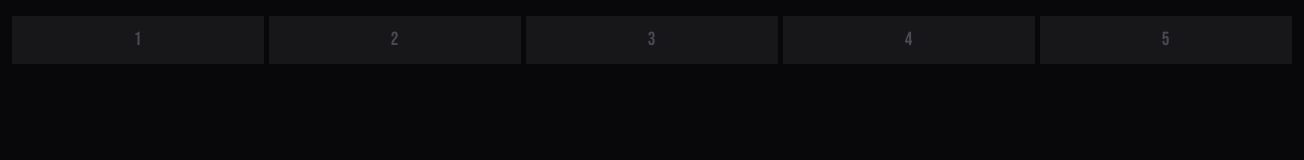
Test: MorningAfterScore › si no se pudo guardar, lo dice y no deja nada marcado
This screenshot has width=1304, height=160.
Click the button "2". click: click(395, 40)
box: left=269, top=16, right=521, bottom=64
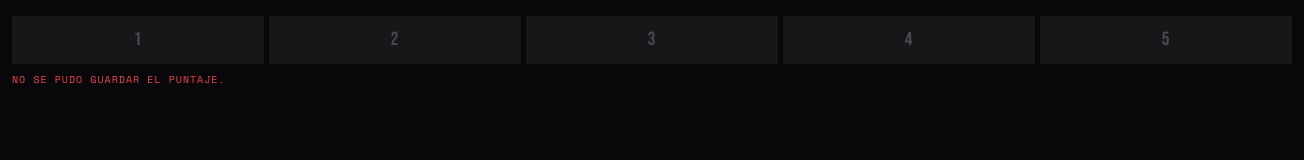
Expected: the message reads "No se pudo guardar el puntaje.", left=12, top=72, right=226, bottom=87
